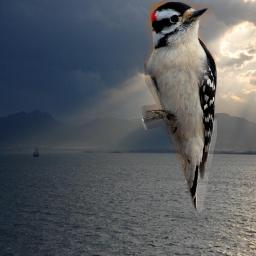Woodpecker: (142, 1, 217, 212)
